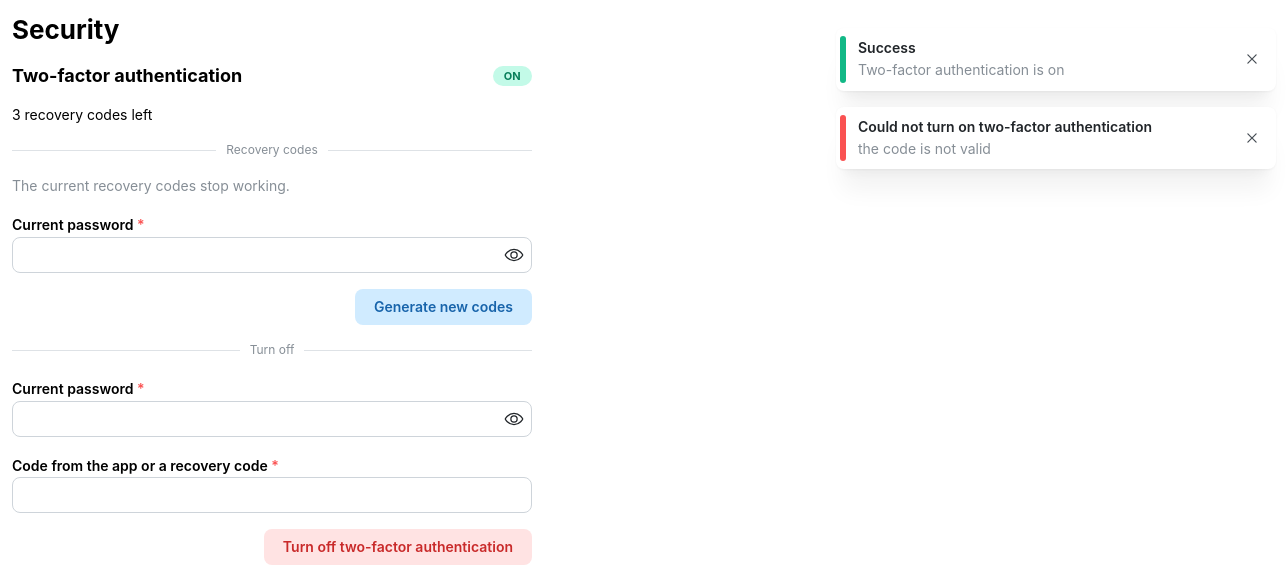
Test case: regenerates the recovery codes with the password
Check: the text "3 recovery codes left" is shown, box [12,106,152,123]
Type "pw-123456" into the password field labelled "Current password *" below "The current recovery codes stop working." at (272, 255), box [13,238,531,272]
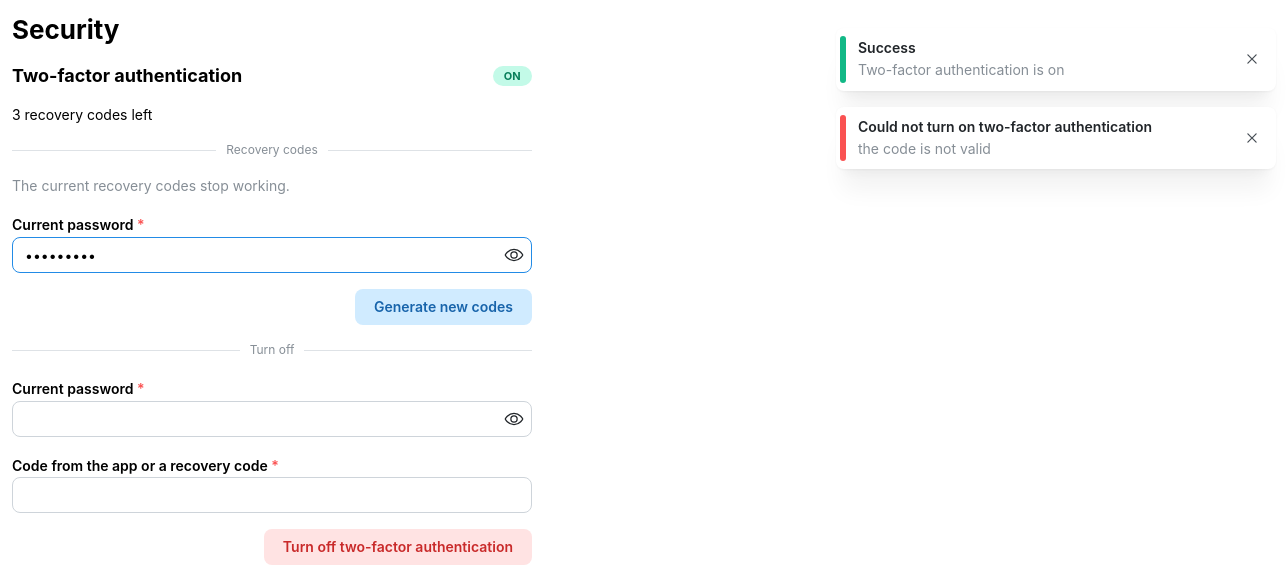
Click the button "Generate new codes" at (444, 307), box [355,289,532,325]
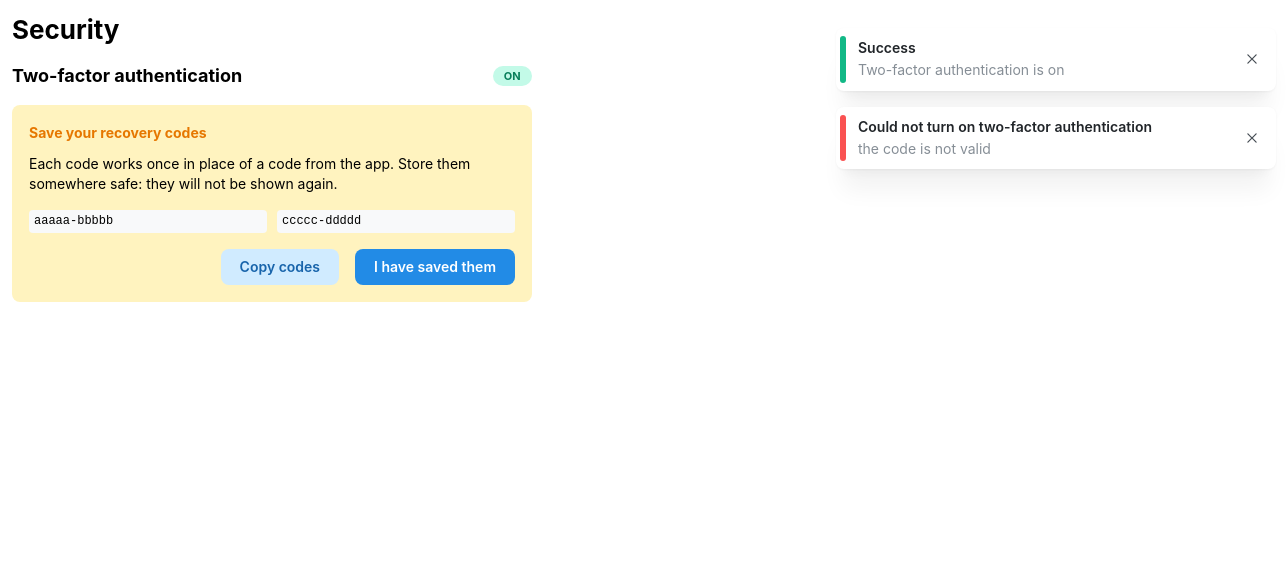
Check: the text "ccccc-ddddd" is shown, box [277,210,515,233]
